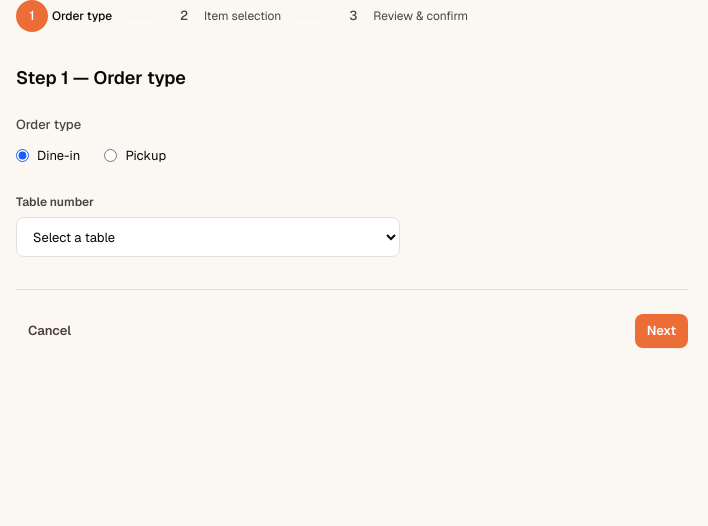
Scenario: OrderWizard › Step 2: selecting an item and clicking Next advances to Step 3
What coordinates should you click on to do the following:
click the radio button labelled "Pickup"
I would click on:
 (111, 156)
Its box is x1=104 y1=149 x2=117 y2=162.
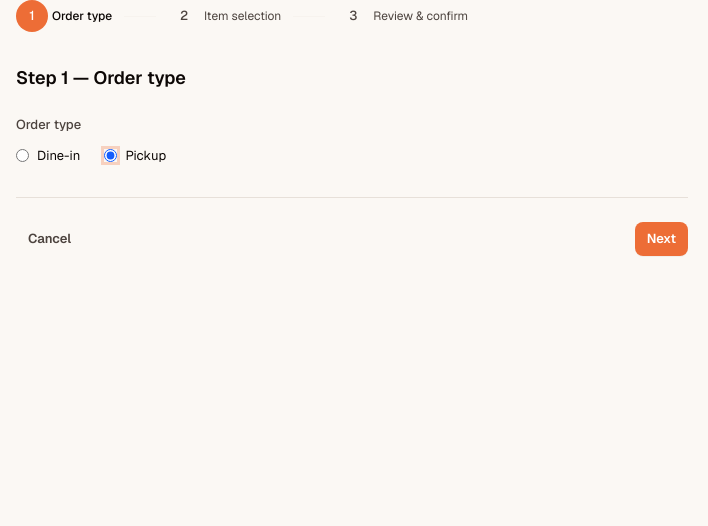
What coordinates should you click on to do the following:
click the button "Next"
I would click on:
 (661, 239)
Its box is x1=635 y1=222 x2=688 y2=256.
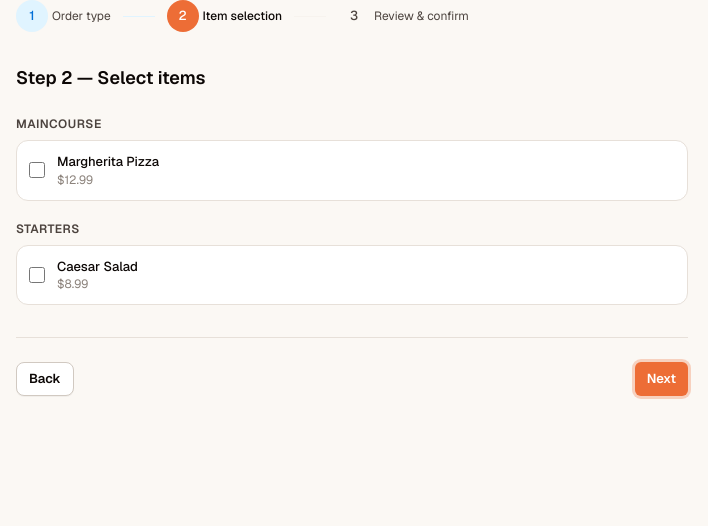
expect the heading "Step 2 — Select items" is shown: met, box x1=16 y1=66 x2=206 y2=89
expect the checkbox labelled "Margherita Pizza $12.99" is shown: met
What coordinates should you click on to do the following:
click the checkbox labelled "Margherita Pizza $12.99"
I would click on:
 (37, 170)
Its box is x1=29 y1=162 x2=45 y2=178.
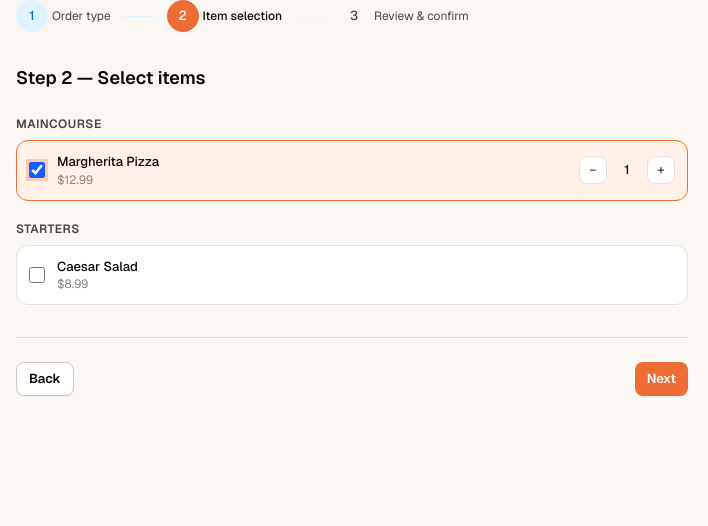
What coordinates should you click on to do the following:
click the button "Next"
I would click on:
 (661, 379)
Its box is x1=635 y1=362 x2=688 y2=396.
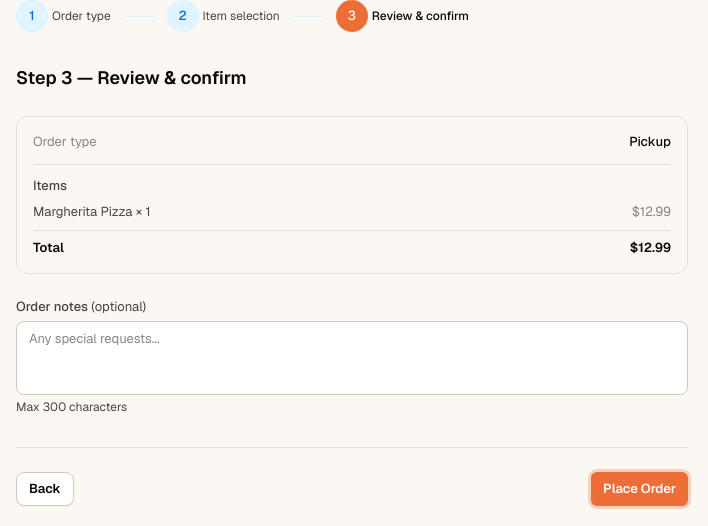
expect the heading "Step 3 — Review & confirm" is shown: met, box x1=16 y1=66 x2=247 y2=89
